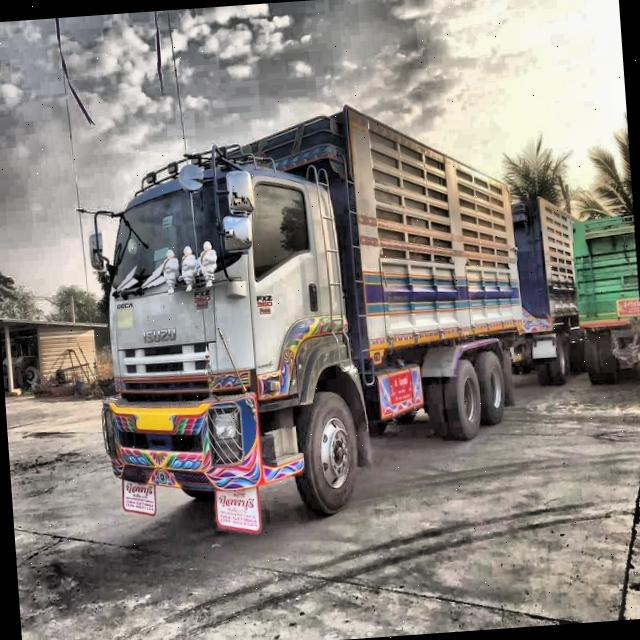trailer: (84, 85, 640, 534)
